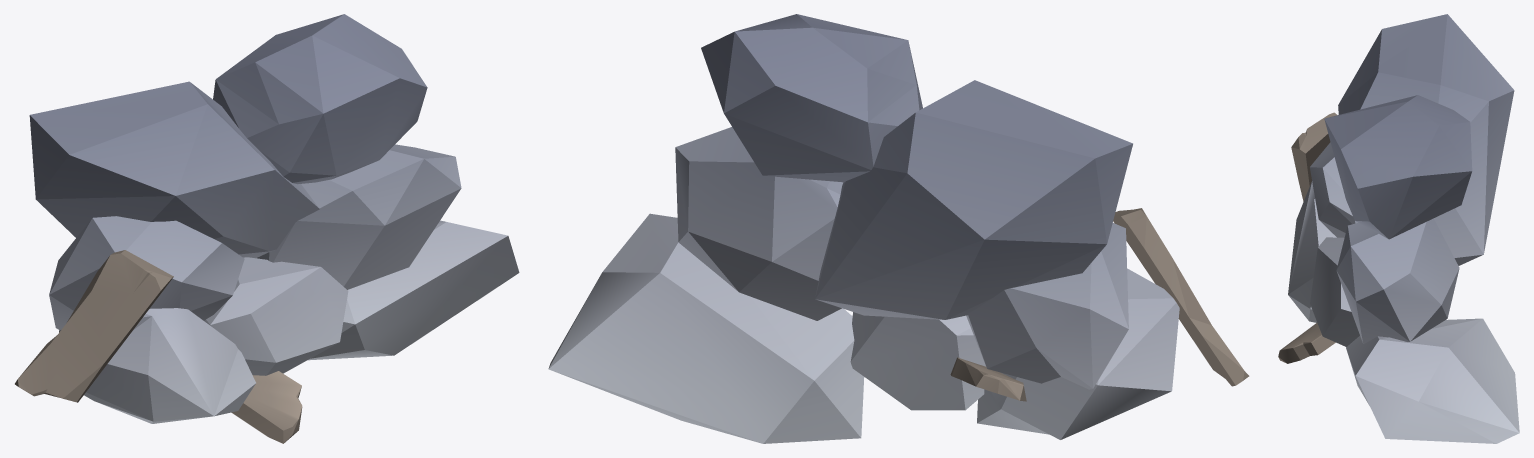
Rendered from Terrain_Stage2_Mountain_12.fbx.
The picture shows the model from 3 angles, left to right: view 1: azimuth 30°, elevation 25°; view 2: azimuth 150°, elevation 25°; view 3: azimuth 270°, elevation 25°; orthographic projection. The views are drawn at different scales.
Visible parts, largest first — view 1: terrain_wall_409; view 2: terrain_wall_409; view 3: terrain_wall_409.
Boxes of the visible parts, bbox=[...] form: terrain_wall_409: bbox=[15, 14, 519, 443]; terrain_wall_409: bbox=[548, 14, 1249, 443]; terrain_wall_409: bbox=[1278, 14, 1519, 443].
Bounding box in the file's own units: 544 × 329 × 237.
1 material, 1 textured.
